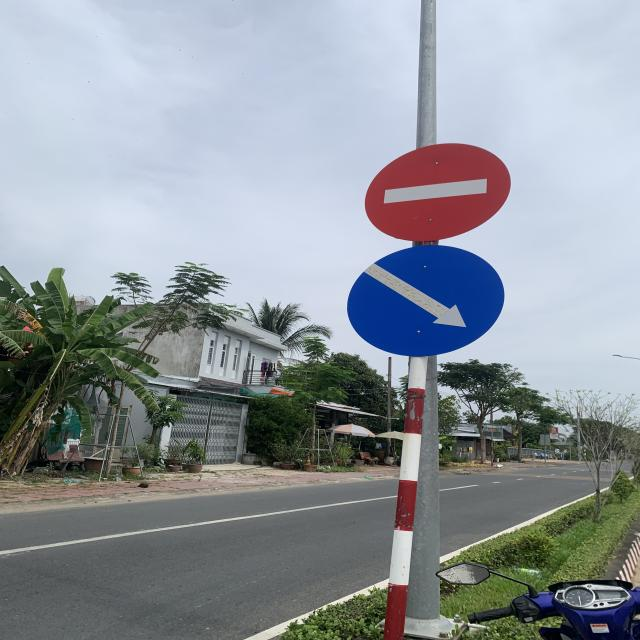Cam_Di_Nguoc_Chieu: (362, 143, 513, 241)
Chi_Huong_Di_Phai: (347, 244, 503, 358)
